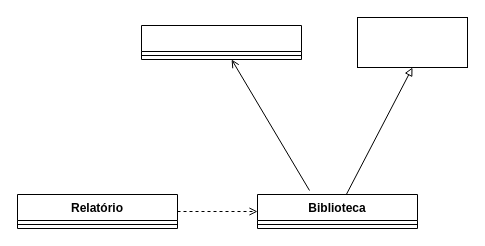
This 485x246 diagram has some shape labels left out. The centre of each missing label's shape, as x and y in pixels:
"Livro" goes at point (221, 42).
"«interface» Iterable" goes at point (412, 42).
